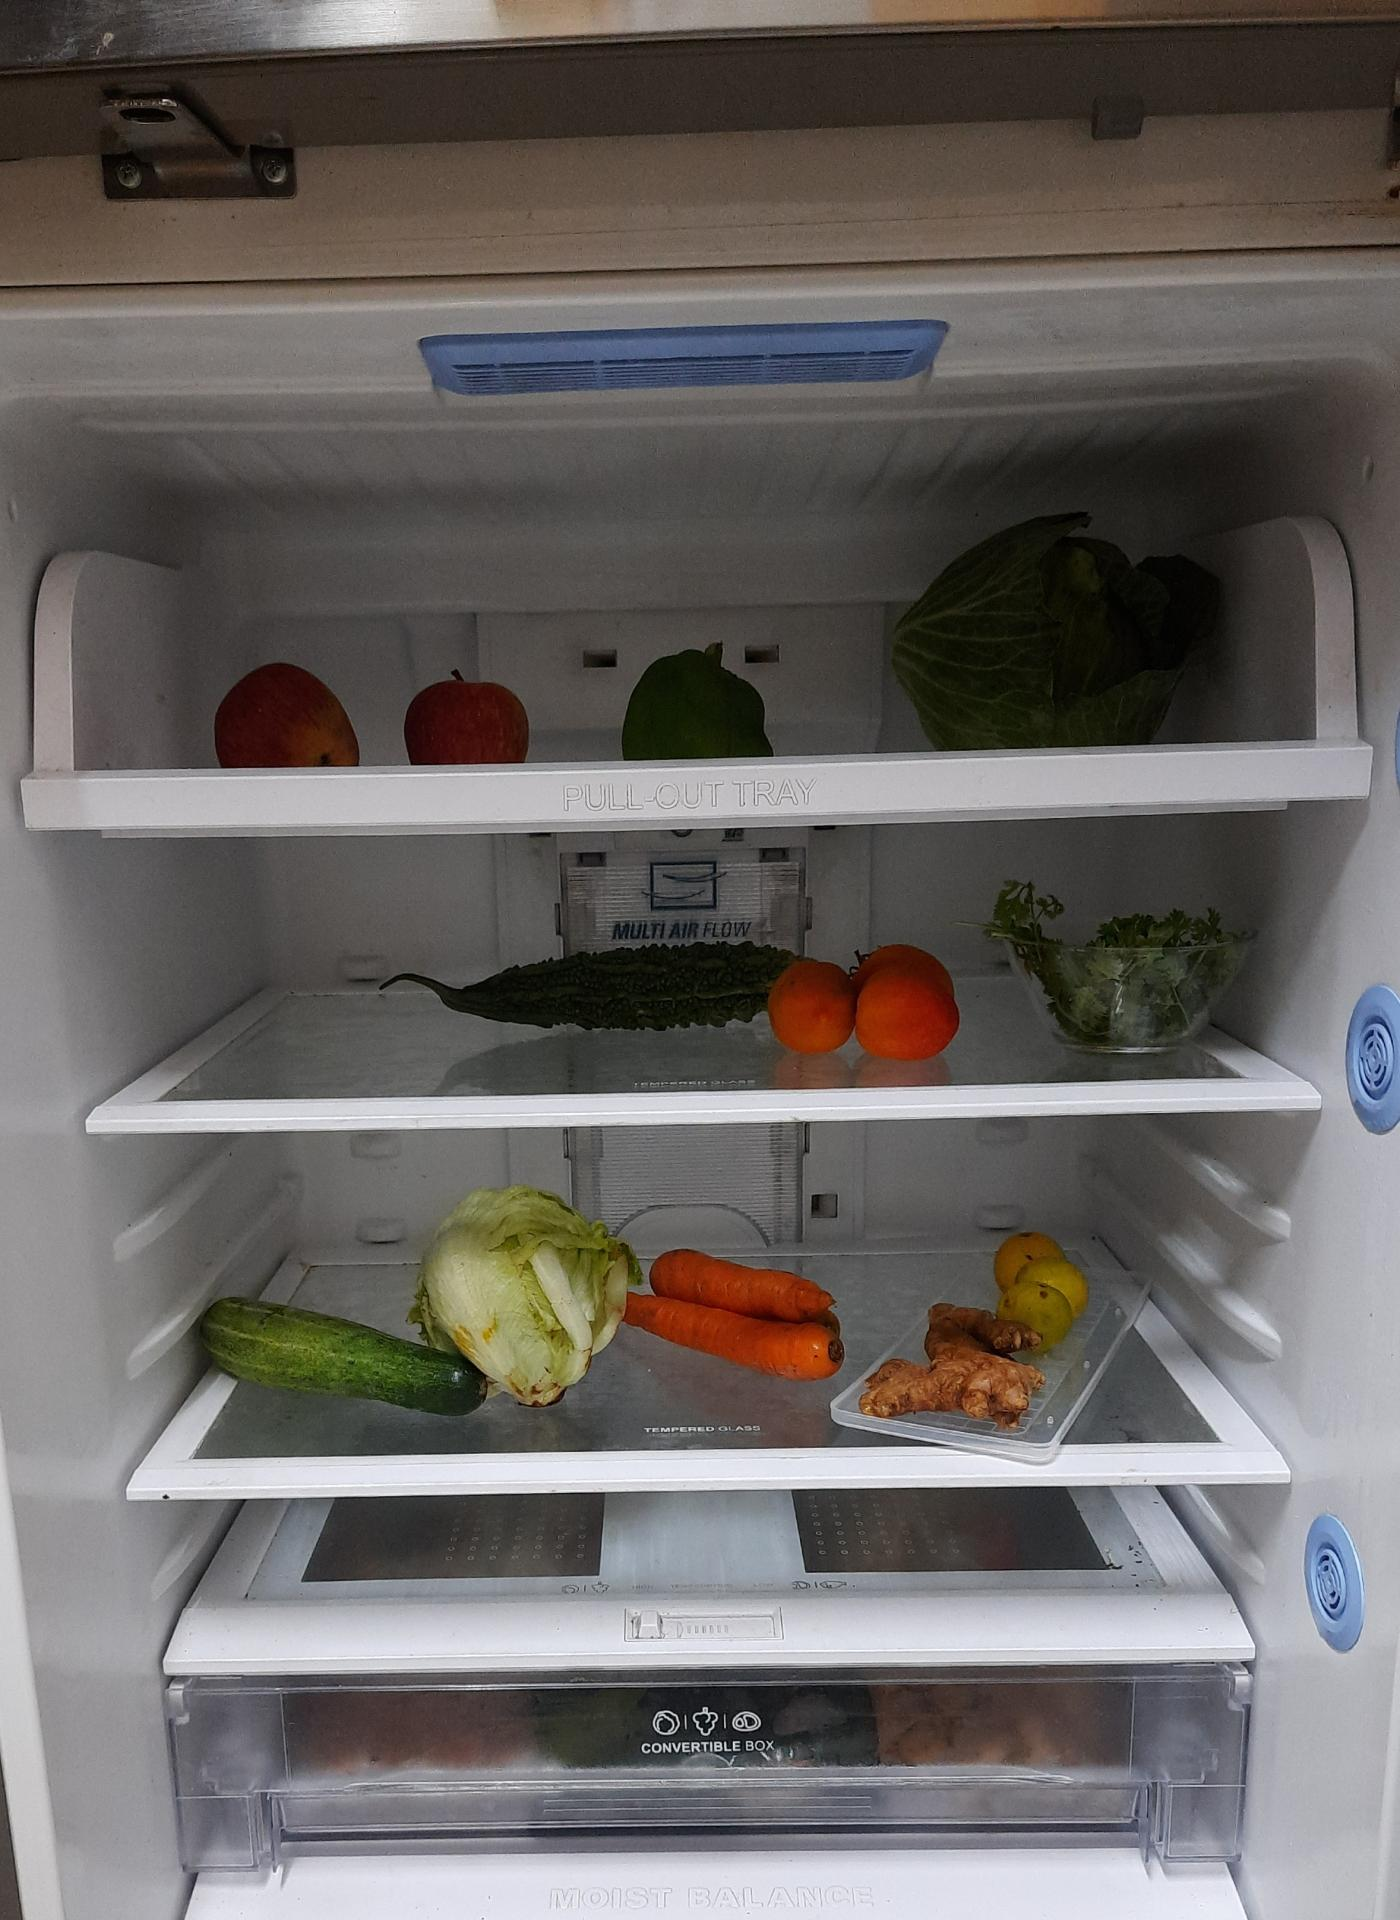apple: (218, 662, 358, 772), (403, 677, 531, 768)
bitter gourd: (400, 950, 792, 1035)
cabbage: (887, 511, 1230, 745)
capsicum: (622, 647, 778, 763)
carrots: (632, 1251, 850, 1380)
coriander: (997, 875, 1240, 1046)
cucumber: (198, 1298, 489, 1424)
ginger: (854, 1303, 1048, 1430)
lemon: (994, 1230, 1093, 1343)
lettuce: (422, 1191, 634, 1406)
tomato: (768, 950, 957, 1063)
